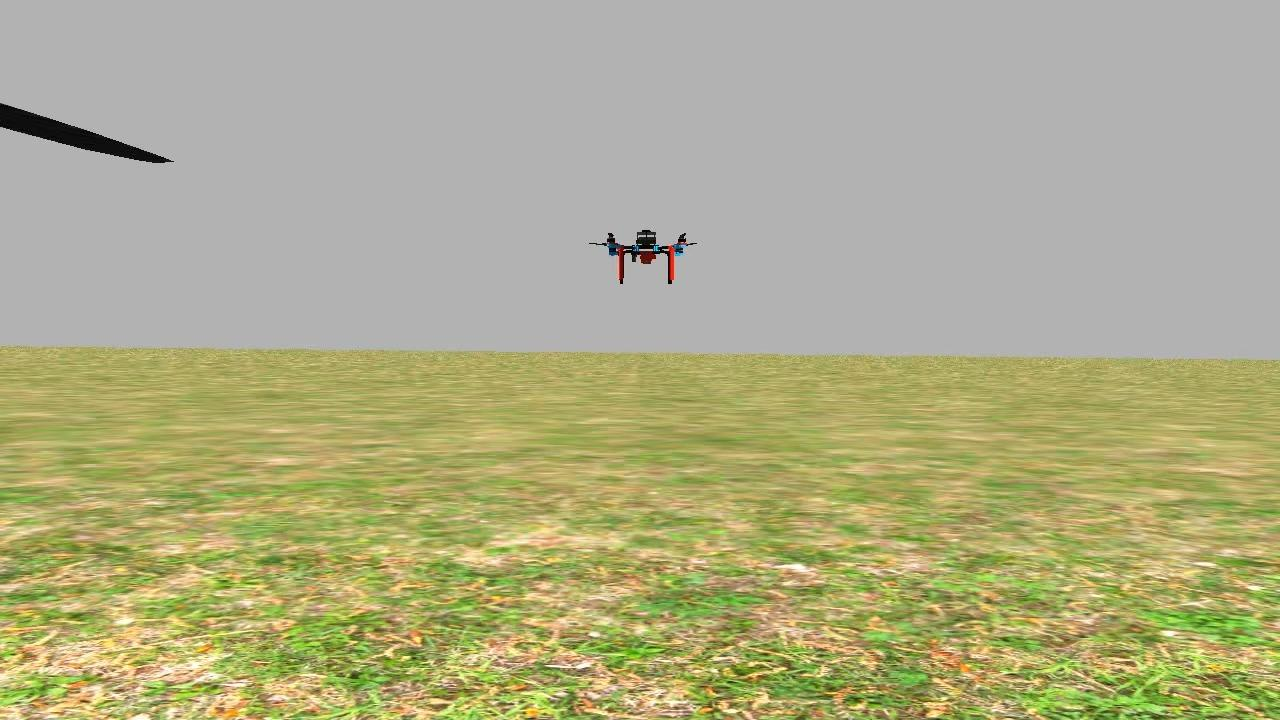UAV: (596, 220, 706, 292)
